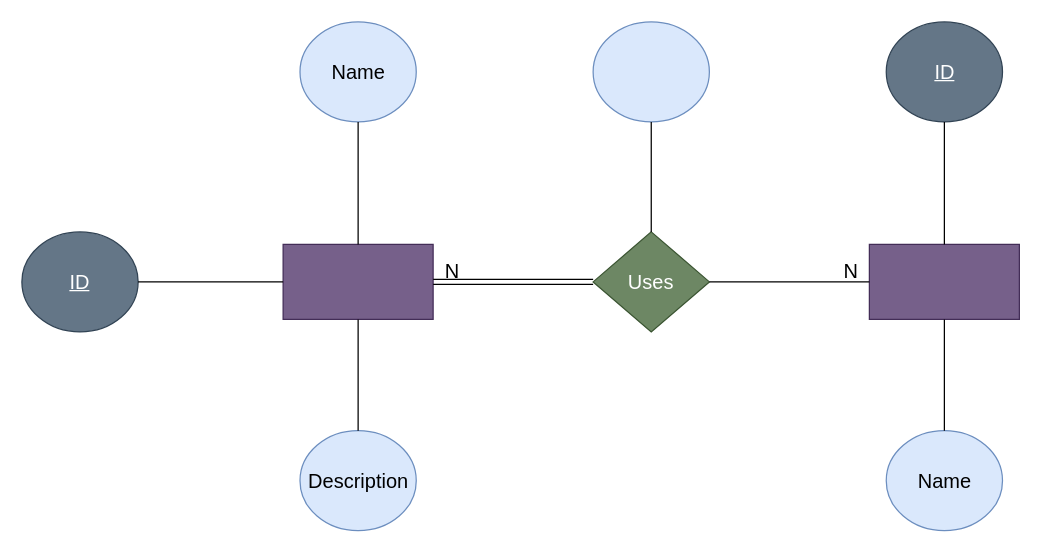
This 1041x553 diagram has some shape labels left out. Here are the shapes that lost their labels. From the top down, the box of each, then its label:
(592, 21, 709, 122): Quantity
(282, 243, 433, 319): Recipes
(868, 243, 1019, 319): Ingredients
